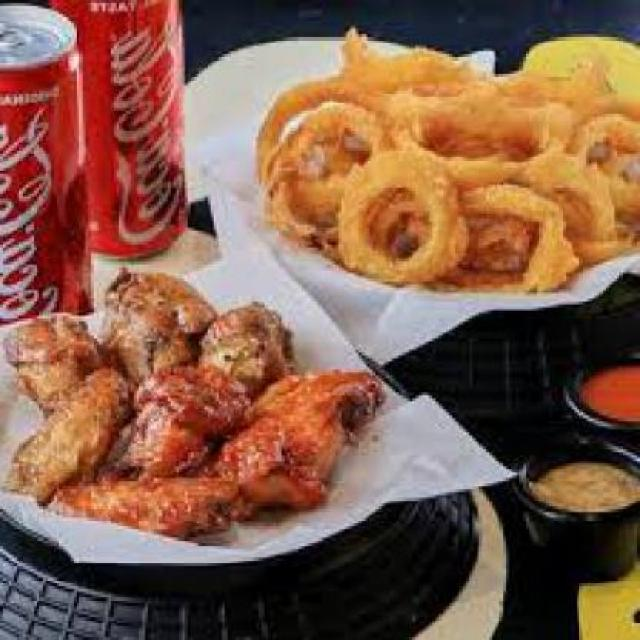chicken wings: (2, 262, 390, 546)
